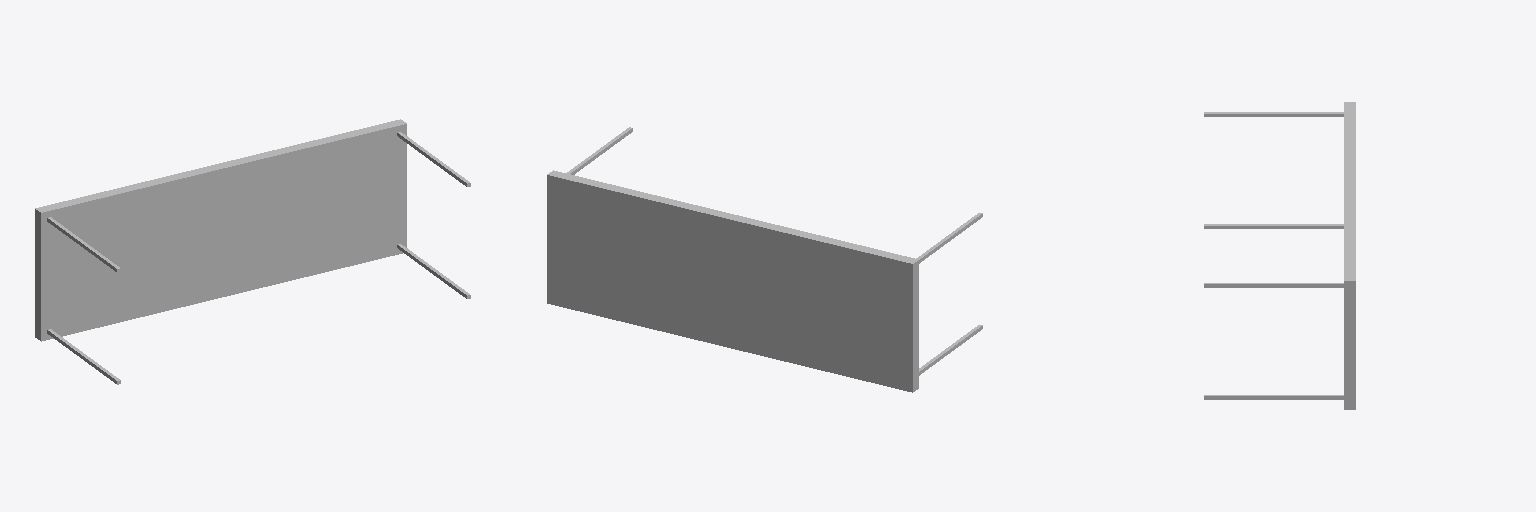
File: random_table42.obj
The picture shows the model from 3 angles: view 1: azimuth 30°, elevation 25°; view 2: azimuth 150°, elevation 25°; view 3: azimuth 270°, elevation 25°; orthographic projection.
Visible parts, largest first — view 1: Table_Cube.405, TableLeg1_Cube.407, TableLeg3_Cube.409; view 2: Table_Cube.405; view 3: Table_Cube.405, TableLeg0_Cube.406, TableLeg1_Cube.407, TableLeg2_Cube.408, TableLeg3_Cube.409.
Boxes of the visible parts, x1,y1,x2,y2 form: Table_Cube.405: [35, 119, 406, 341]; TableLeg1_Cube.407: [47, 217, 120, 272]; TableLeg3_Cube.409: [47, 329, 120, 384]; Table_Cube.405: [547, 170, 918, 392]; Table_Cube.405: [1344, 102, 1355, 409]; TableLeg0_Cube.406: [1204, 283, 1343, 287]; TableLeg1_Cube.407: [1204, 112, 1343, 116]; TableLeg2_Cube.408: [1204, 395, 1343, 399]; TableLeg3_Cube.409: [1204, 224, 1343, 228].
Size of the model in its own units: 13 by 4.37 by 4.68.